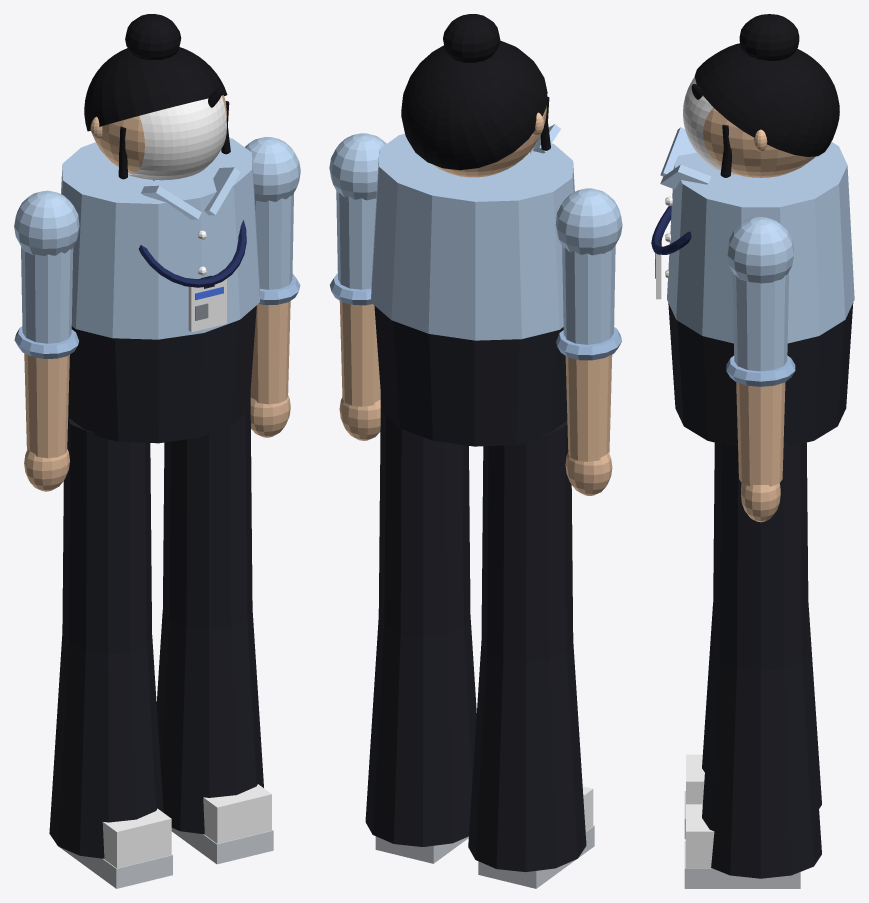
Rendered from gemini.obj.
3 views of the same model, side by side, from view 1: azimuth 30°, elevation 25°; view 2: azimuth 150°, elevation 25°; view 3: azimuth 270°, elevation 25° (orthographic). The views are drawn at different scales.
Visible parts, largest first — view 1: mesh_10, mesh_2, mesh_1, mesh_9, mesh_6, mesh_5, mesh_36, mesh_35, mesh_22, mesh_24, mesh_29, mesh_21 (+16 smaller); view 2: mesh_10, mesh_2, mesh_6, mesh_1, mesh_9, mesh_5, mesh_36, mesh_22, mesh_24, mesh_29, mesh_21, mesh_27 (+9 smaller); view 3: mesh_10, mesh_6, mesh_5, mesh_9, mesh_36, mesh_27, mesh_29, mesh_26, mesh_32, mesh_37, mesh_8, mesh_7 (+8 smaller).
Boxes of the visible parts, box(x1,y1,x2,y2) form: mesh_10: box(61, 138, 259, 339); mesh_2: box(49, 634, 163, 858); mesh_1: box(62, 417, 151, 654); mesh_9: box(68, 305, 256, 443); mesh_6: box(156, 610, 263, 834); mesh_5: box(163, 392, 252, 629); mesh_36: box(84, 47, 227, 131); mesh_35: box(129, 96, 226, 180); mesh_22: box(21, 246, 73, 343); mesh_24: box(24, 353, 69, 458); mesh_29: box(250, 301, 290, 404); mesh_21: box(14, 190, 79, 256); mesh_10: box(371, 133, 574, 340); mesh_2: box(468, 642, 586, 872); mesh_6: box(365, 617, 476, 846); mesh_1: box(481, 420, 573, 662); mesh_9: box(374, 305, 567, 446); mesh_5: box(378, 393, 470, 637); mesh_36: box(401, 40, 547, 170); mesh_22: box(562, 245, 615, 344); mesh_24: box(565, 355, 612, 461); mesh_29: box(339, 301, 380, 406); mesh_21: box(555, 188, 622, 255); mesh_27: box(336, 191, 376, 289); mesh_10: box(667, 142, 854, 343); mesh_6: box(702, 652, 821, 878); mesh_5: box(713, 442, 808, 670); mesh_9: box(668, 303, 853, 446); mesh_36: box(694, 43, 839, 156); mesh_27: box(732, 272, 788, 371); mesh_29: box(736, 382, 785, 486); mesh_26: box(727, 217, 793, 283); mesh_32: box(703, 107, 815, 177); mesh_37: box(739, 14, 799, 60); mesh_8: box(684, 840, 800, 888); mesh_7: box(686, 804, 714, 868).
Bounding box in the file's own units: 0.594 × 1.68 × 0.3716.
